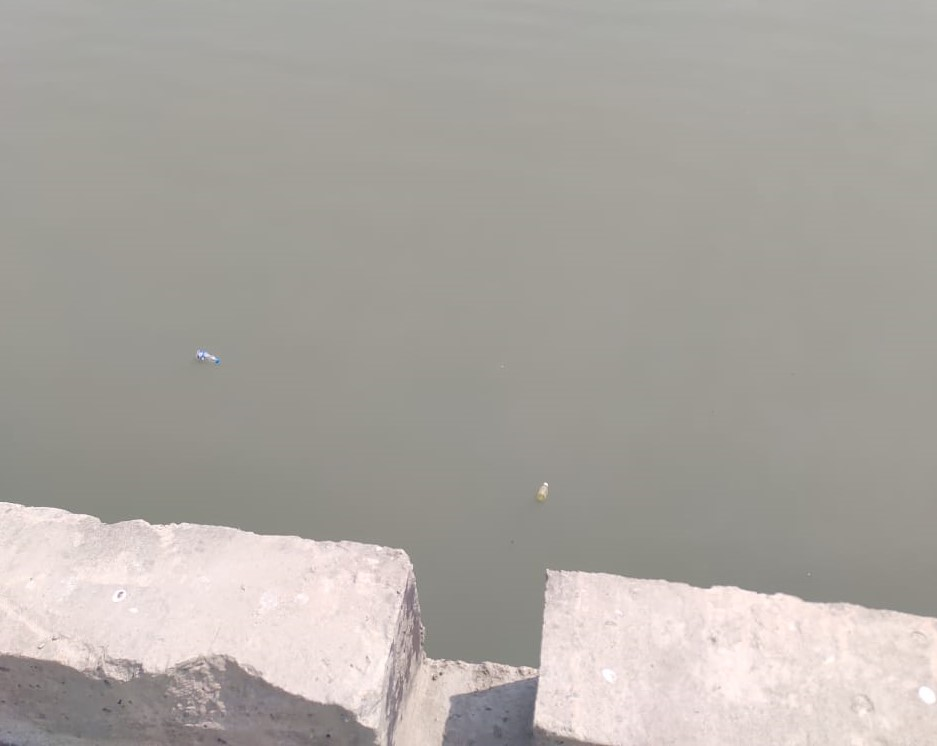Plastic Bottle: (196, 349, 219, 365), (536, 482, 549, 501)
